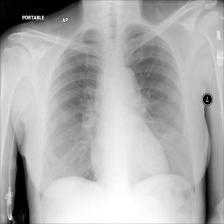normal: (35, 20, 199, 206)
